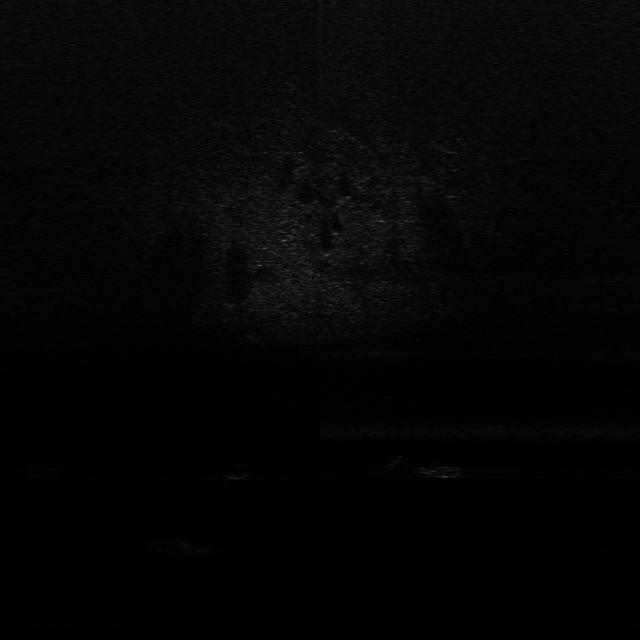ball: (226, 461, 250, 480)
circle cage: (148, 536, 214, 568)
human body: (386, 452, 480, 482)
